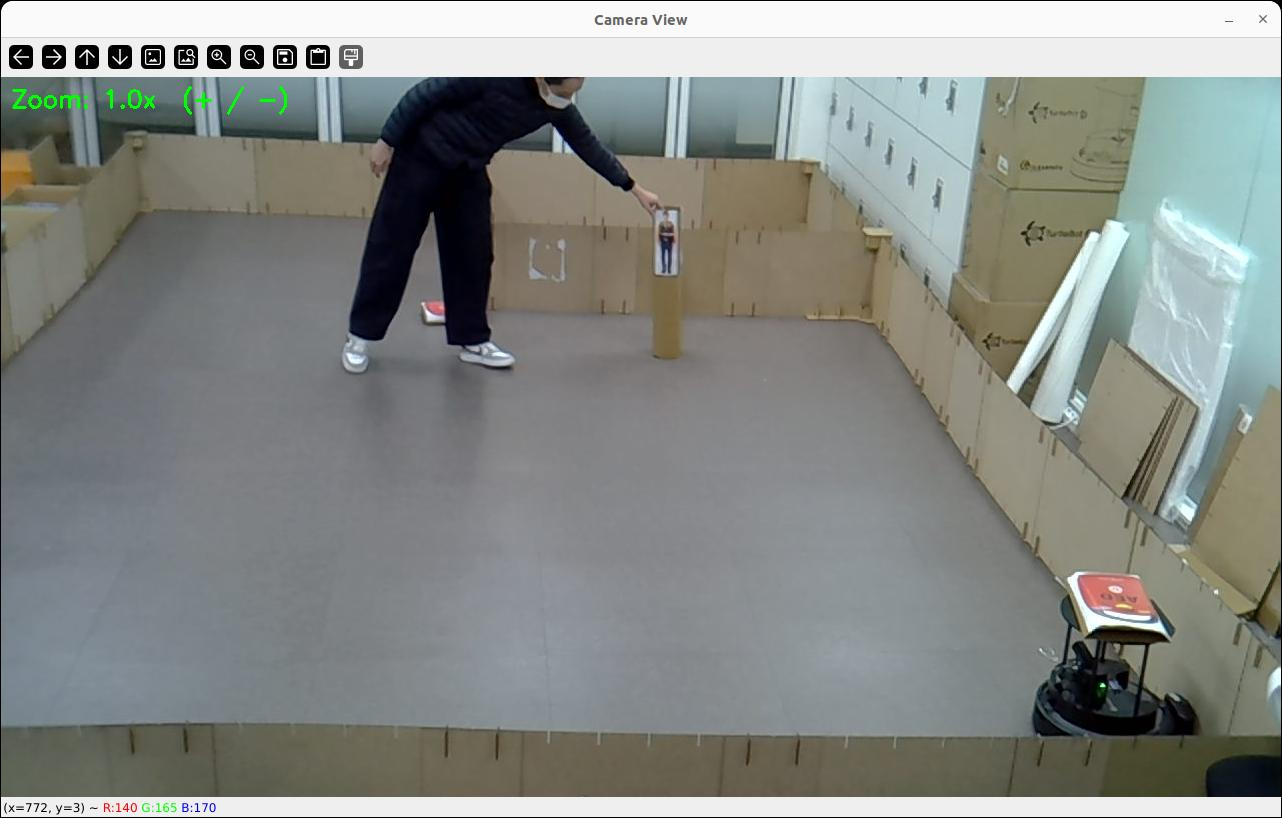Responder: (658, 211, 676, 274)
